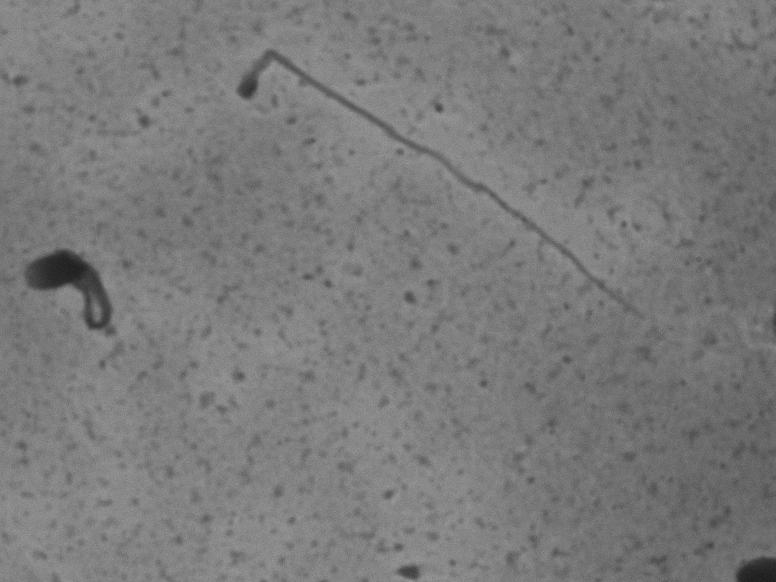Abnormal: (200, 39, 689, 321), (18, 232, 127, 352)
